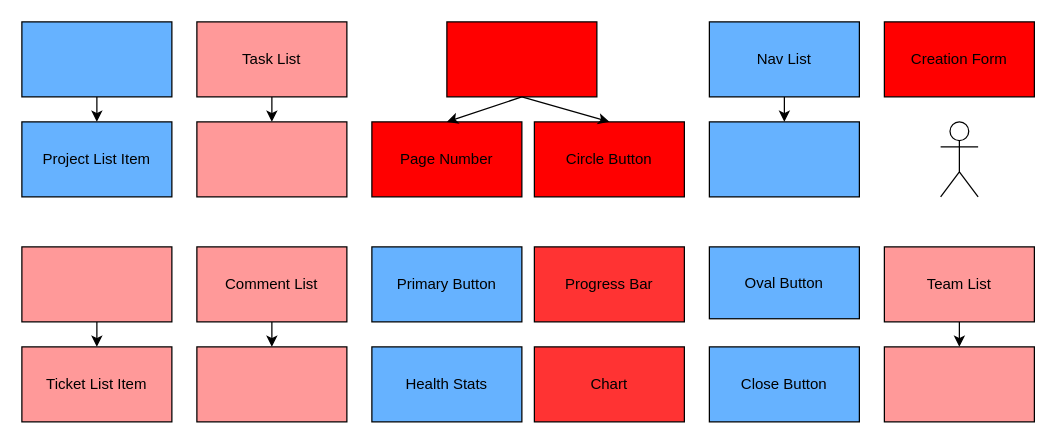
This 1056x444 diagram has some shape labels left out. The shapes that lost their labels are listed below. From the top down, each one's centre as x and y in pixels, then its label:
At [96,59]: "Project List".
At [521,59]: "Slider".
At [271,159]: "Task List Item".
At [783,159]: "Nav List Item".
At [958,159]: "Lateef".
At [96,284]: "Ticket List".
At [271,384]: "Comment List Item".
At [958,384]: "Team List Item".
